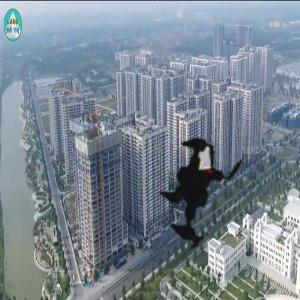drone: (120, 109, 291, 280)
